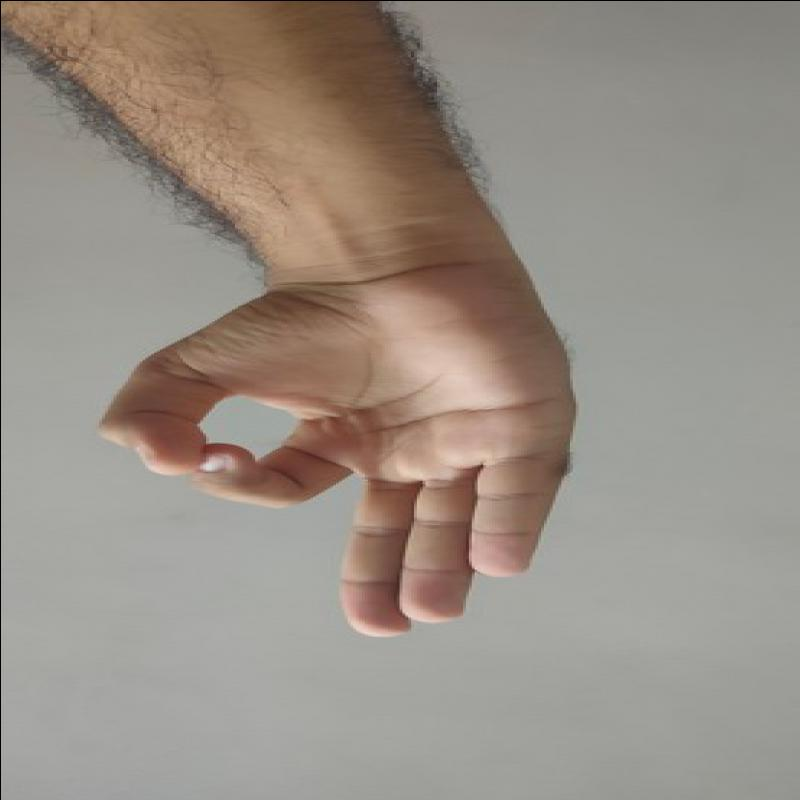Mudraakhyam: (87, 236, 596, 645)
